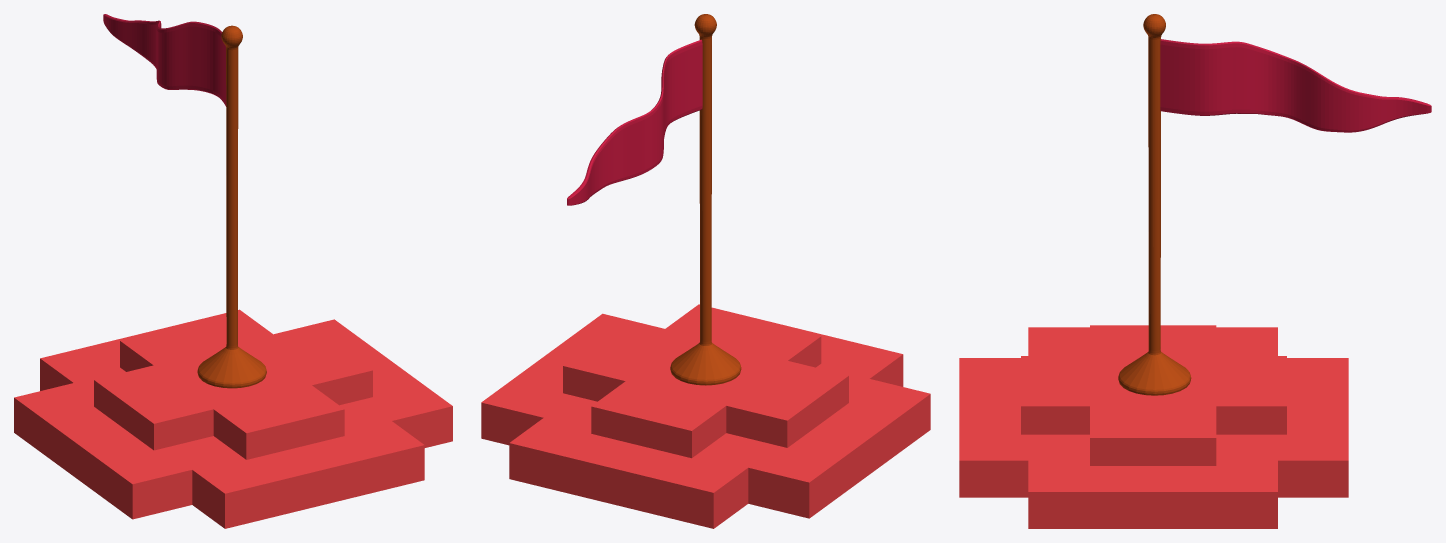
Rendered from endModel_subd.fbx.
3 renders of one model, left to right at view 1: azimuth 30°, elevation 25°; view 2: azimuth 150°, elevation 25°; view 3: azimuth 270°, elevation 25°, orthographic. The views are drawn at different scales.
Parts seen in each view (by area): view 1: endBase, endPole, endFlag; view 2: endBase, endFlag, endPole; view 3: endBase, endFlag, endPole.
Boxes of the visible parts, x1=… form: endBase: x1=14, y1=309, x2=452, y2=528; endPole: x1=197, y1=25, x2=266, y2=388; endFlag: x1=103, y1=14, x2=226, y2=106; endBase: x1=481, y1=304, x2=930, y2=528; endFlag: x1=567, y1=39, x2=702, y2=205; endPole: x1=670, y1=14, x2=741, y2=385; endBase: x1=959, y1=325, x2=1348, y2=528; endFlag: x1=1160, y1=39, x2=1431, y2=132; endPole: x1=1118, y1=14, x2=1191, y2=395.
Size of the model in its own units: 113 by 138 by 137.
